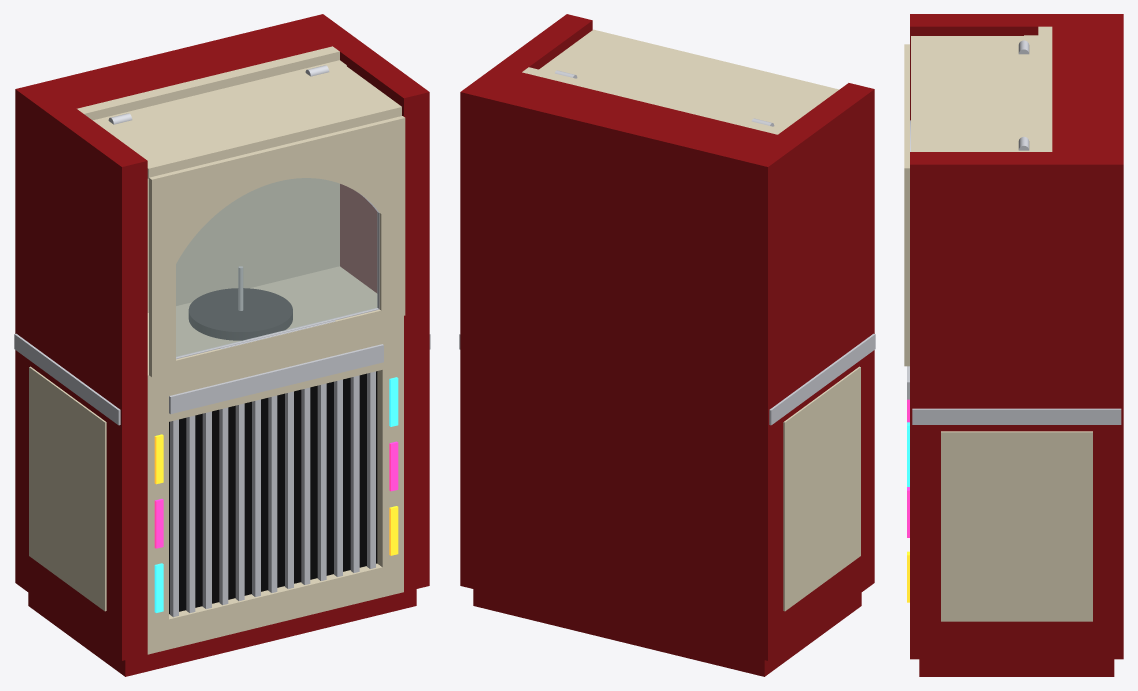
The model's file is jukebox.glb.
3 renders of one model, left to right at view 1: azimuth 30°, elevation 25°; view 2: azimuth 150°, elevation 25°; view 3: azimuth 270°, elevation 25°, orthographic.
Parts seen in each view (by area): view 1: cabinet, top_window; view 2: cabinet, top_window; view 3: cabinet, top_window.
Part boxes in pixels (left/top/right/bottom): cabinet: left=14, top=14, right=430, bottom=676; top_window: left=100, top=65, right=405, bottom=377; cabinet: left=459, top=14, right=875, bottom=676; top_window: left=539, top=29, right=839, bottom=129; cabinet: left=907, top=14, right=1123, bottom=676; top_window: left=904, top=36, right=1023, bottom=366.
Bounding box in the file's own units: 0.76 × 1.2 × 0.462.
